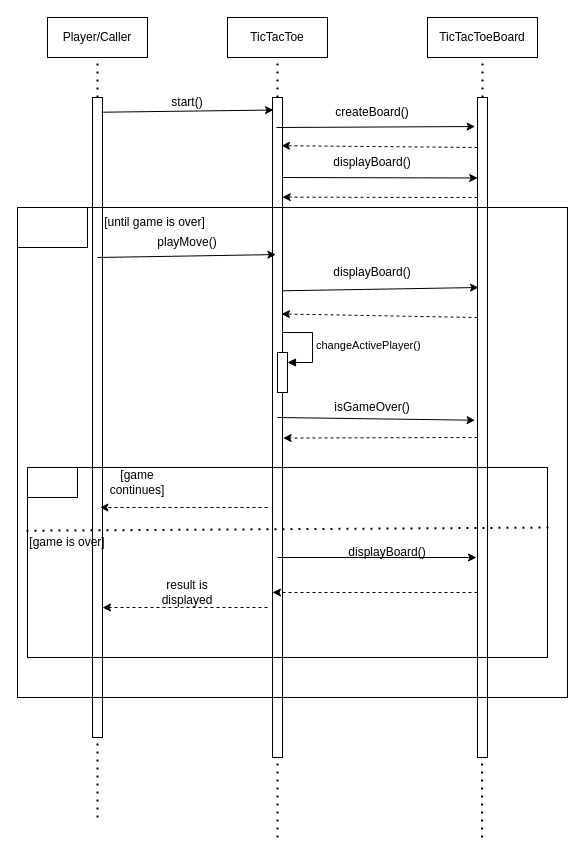
Some shapes in this 585 by 857 pixel diagram are drawn without their labels. Each missing label, with the box of its shape:
alt: (26, 466, 78, 498)
loop: (16, 206, 88, 248)
